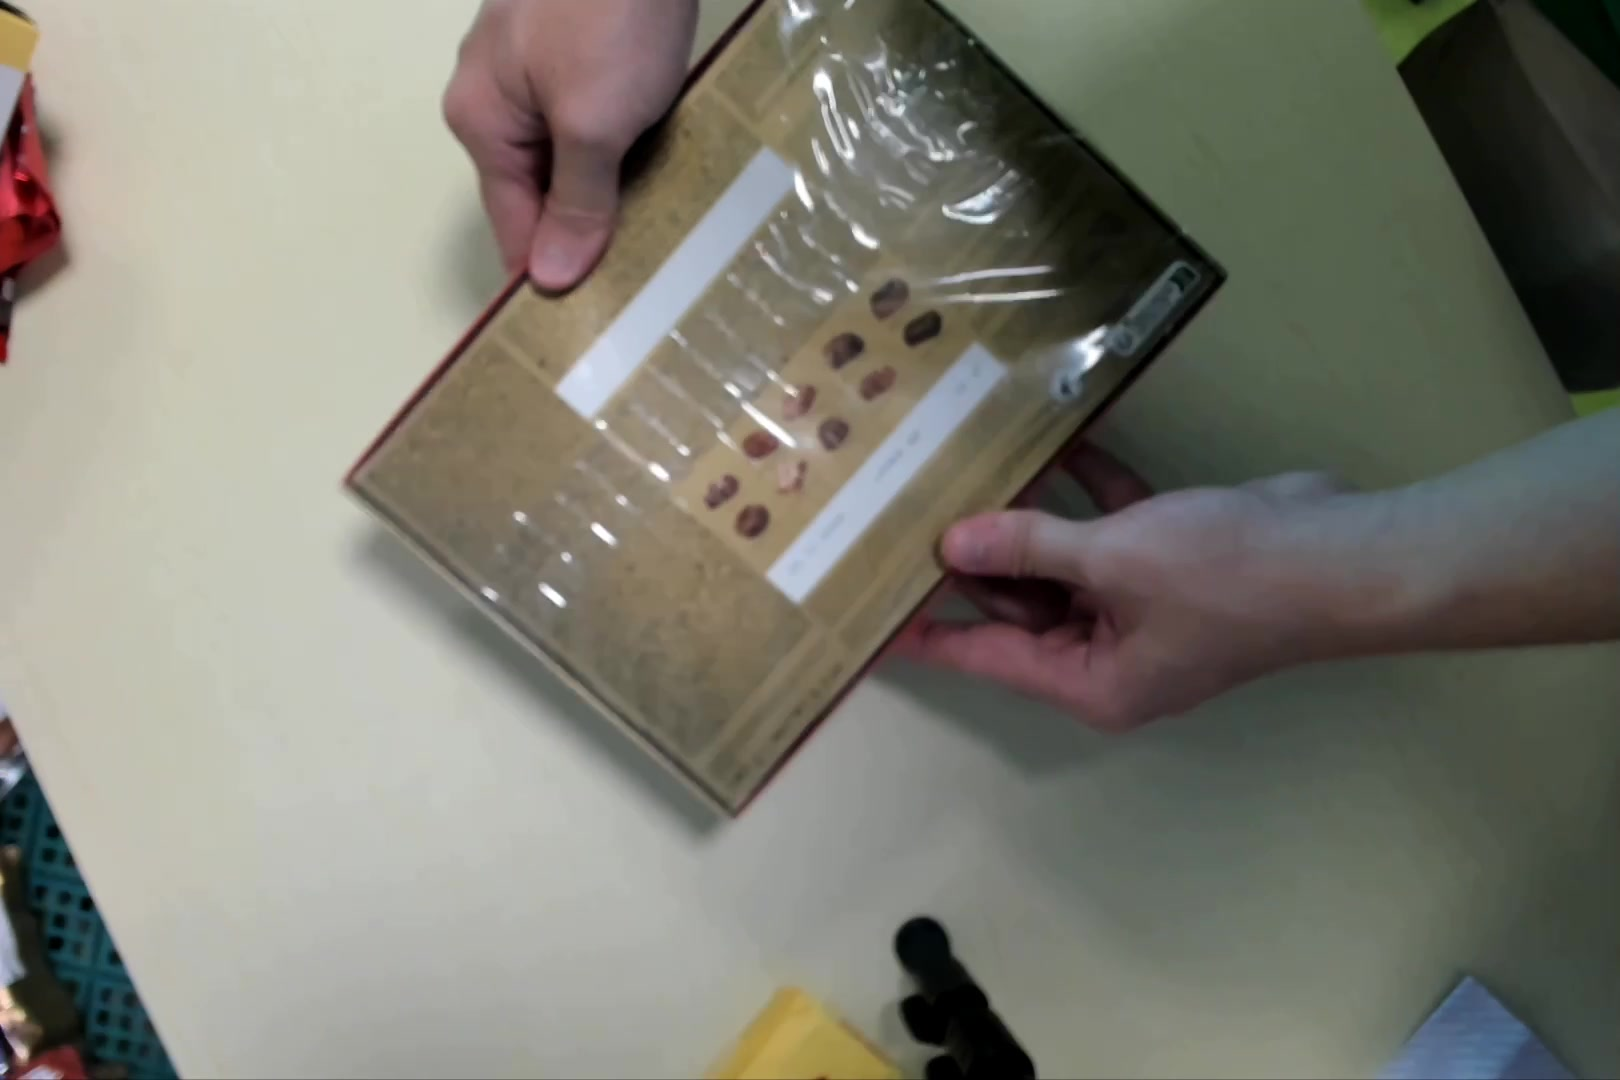SweetsChocolatesOthers_100-199g_NonHalal_NonHealthy: (330, 6, 1220, 823)
